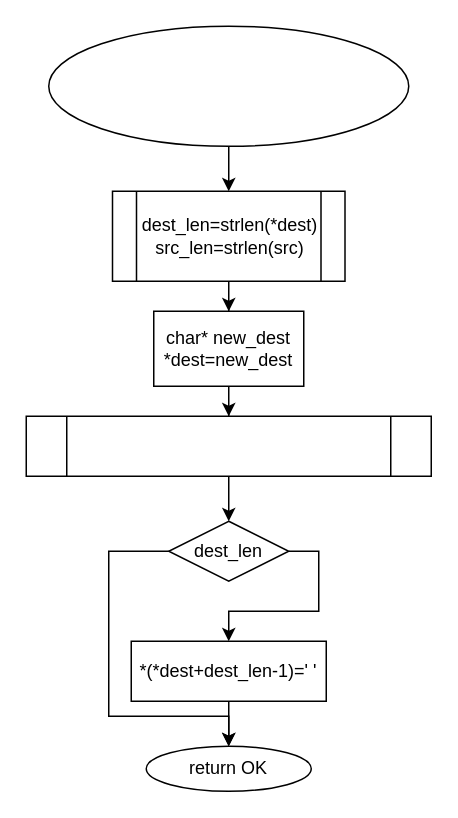
Some shapes in this 458 by 818 pixel diagram are drawn without their labels. The shapes that lost their labels are listed below. From the top down, each one's centre as x and y in pixels, then its label:
point 228,85: append(const** dest, const char* src)
point 228,445: memcpy(*dest+dest_len,src,src_len+1)
